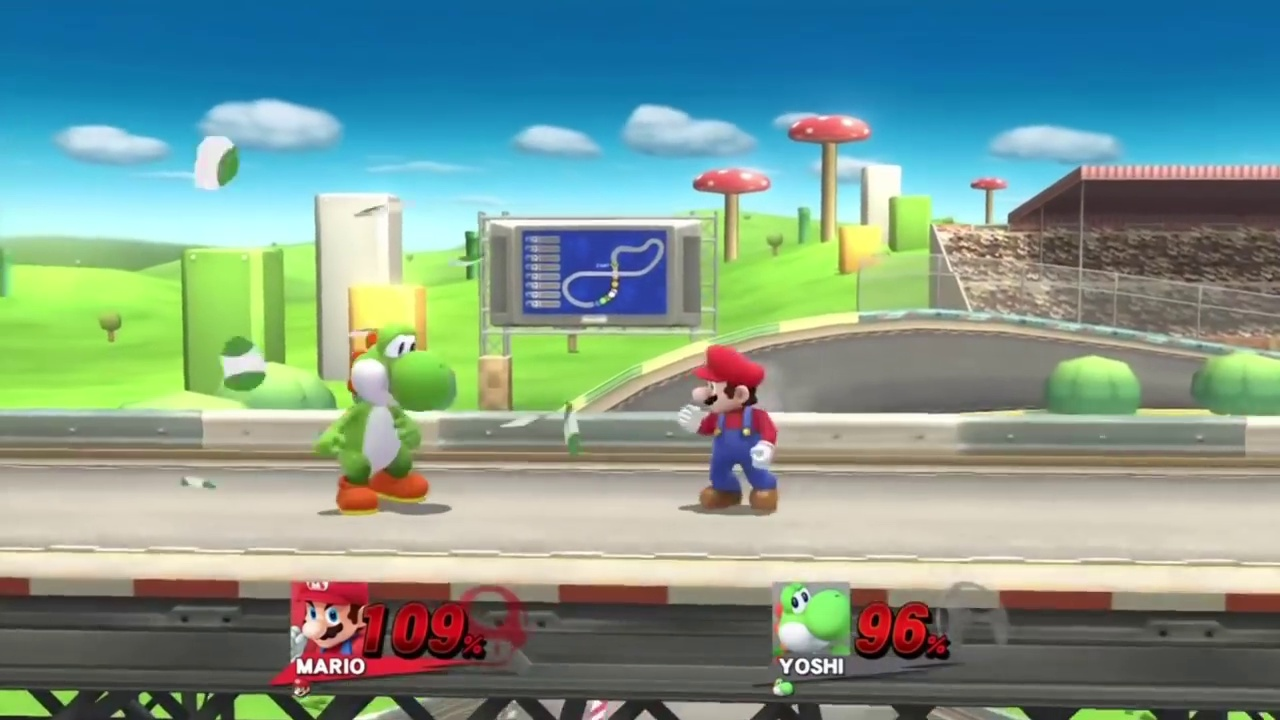Mario: (676, 344, 780, 516)
